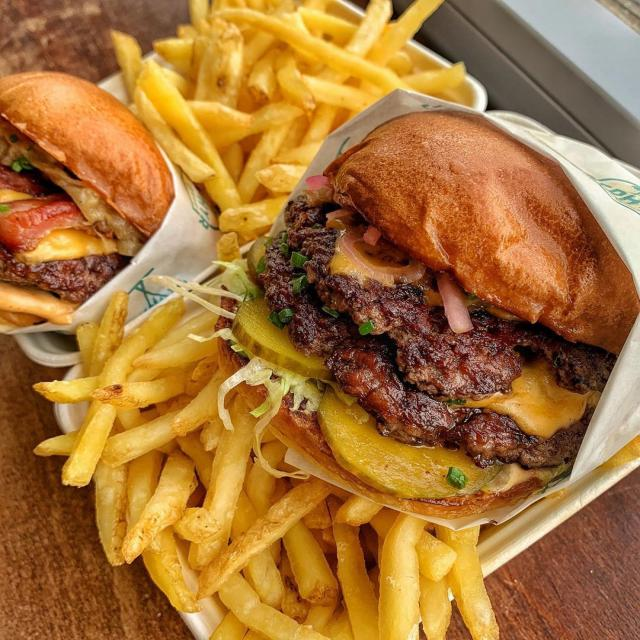Burger: (284, 115, 640, 512), (0, 62, 156, 300)
French Fries: (54, 300, 314, 640), (143, 0, 420, 146)
